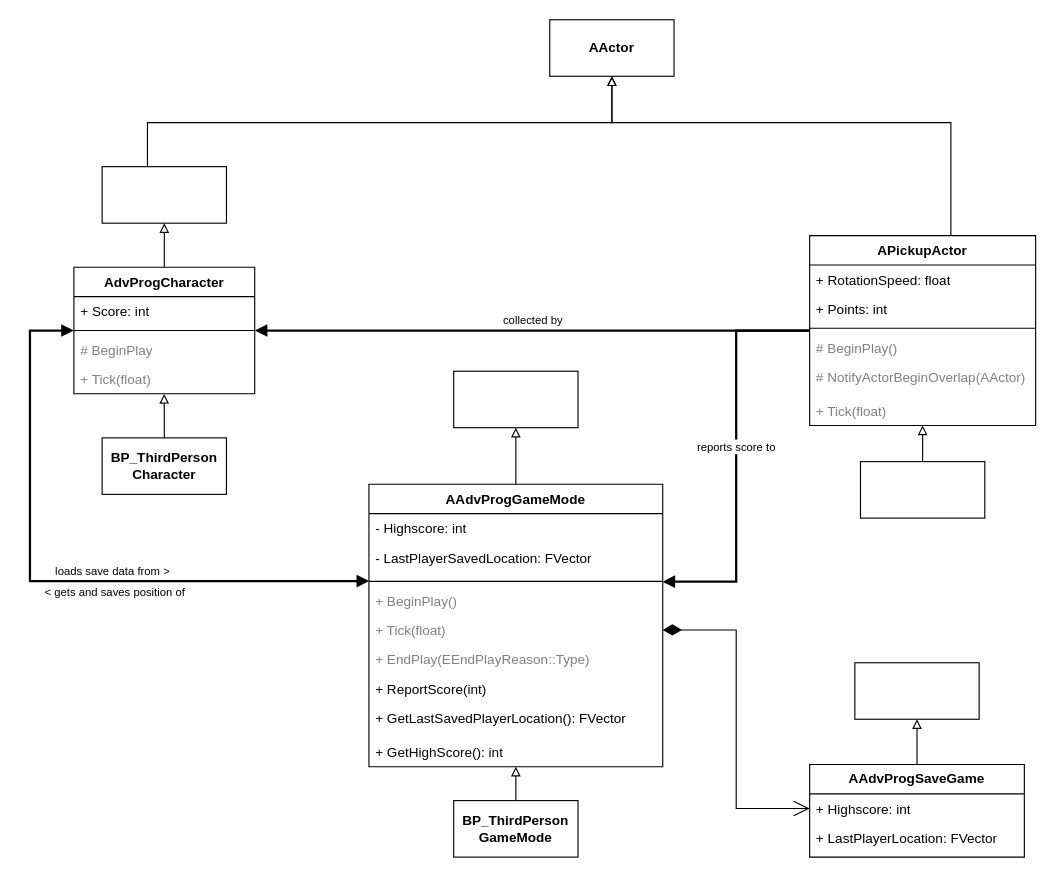
The diagram is 1055 pixels wide and 880 high, and some of its shapes have lost their labels. Each missing label, with the centre of its shape:
"ACharacter" goes at [163,194].
"AGameModeBase" goes at [515,399].
"BP_PickupActor" goes at [922,489].
"USaveGame" goes at [916,690].
